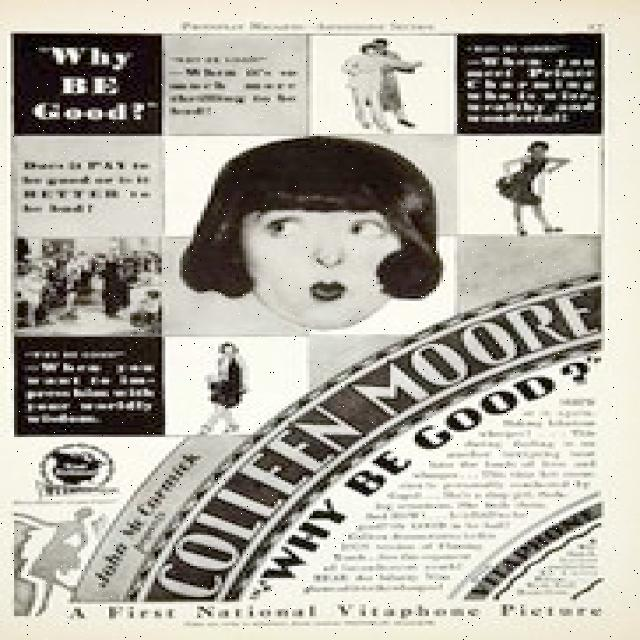movie-judul: (240, 346, 604, 599)
picture: (178, 140, 444, 331), (12, 238, 159, 332), (326, 38, 450, 135), (492, 142, 582, 228), (185, 340, 270, 422)
